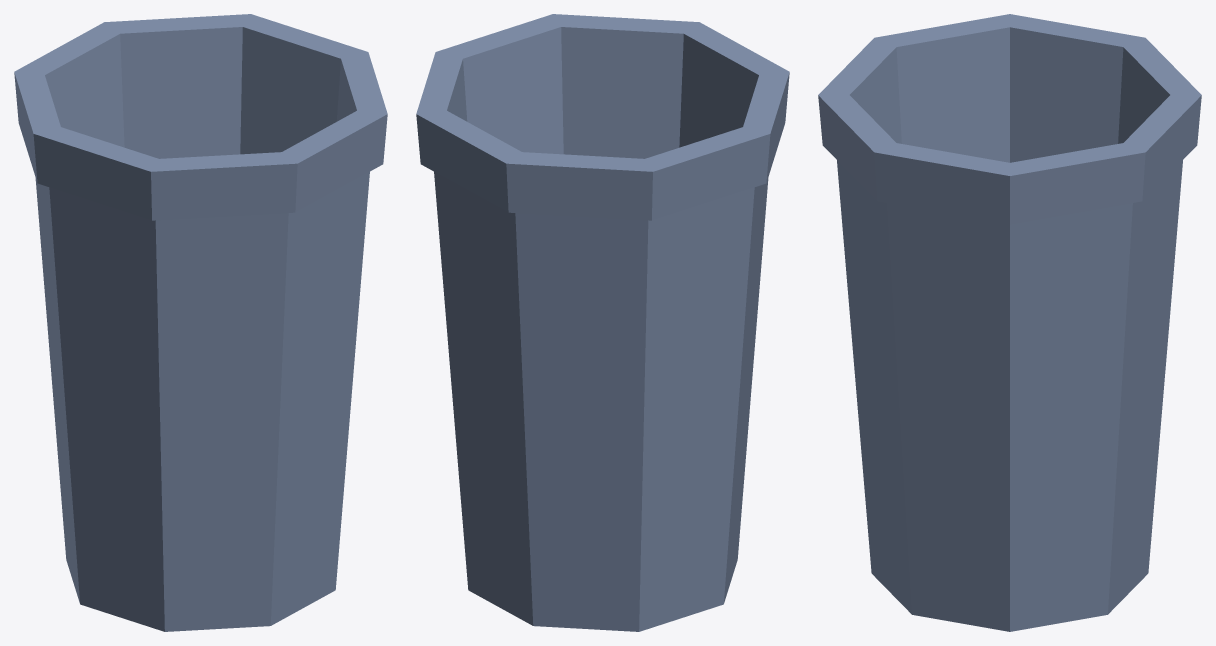
Rendered from ToothbrushCup_03.fbx.
3 views of the same model, side by side, from view 1: azimuth 30°, elevation 25°; view 2: azimuth 150°, elevation 25°; view 3: azimuth 270°, elevation 25° (orthographic).
Parts seen in each view (by area): view 1: ToothbrushCup_03; view 2: ToothbrushCup_03; view 3: ToothbrushCup_03.
Boxes of the visible parts, box(x1,y1,x2,y2) form: ToothbrushCup_03: box(14, 14, 387, 631); ToothbrushCup_03: box(416, 14, 789, 631); ToothbrushCup_03: box(818, 14, 1201, 631).
Bounding box in the file's own units: 11.47 × 15.78 × 11.47.
